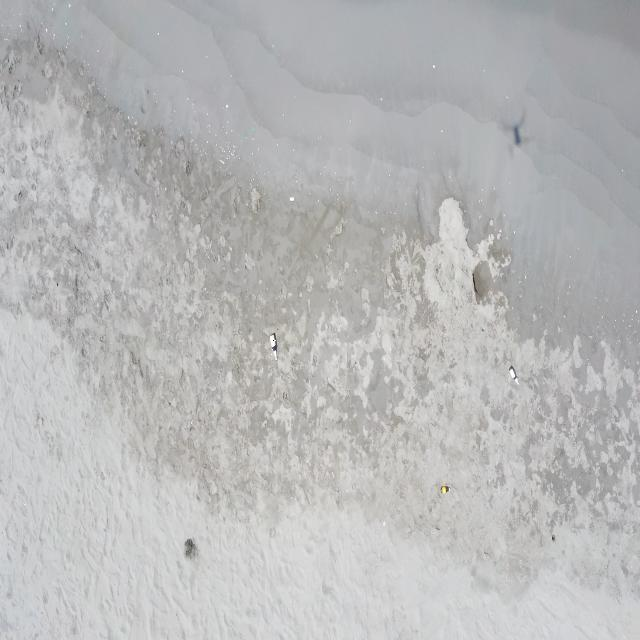glass: (508, 366, 520, 386), (270, 334, 279, 360), (440, 486, 451, 494)
